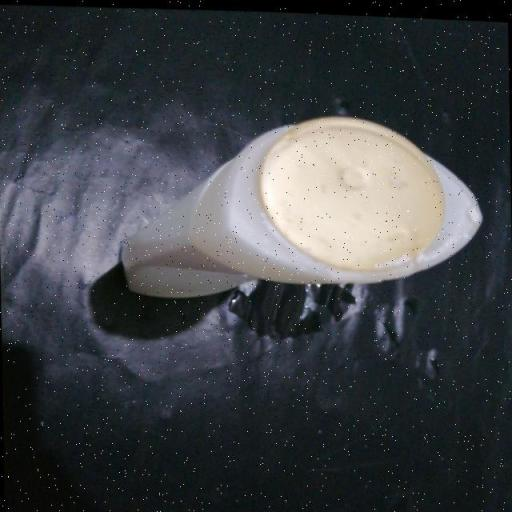plastic: (99, 80, 500, 361)
